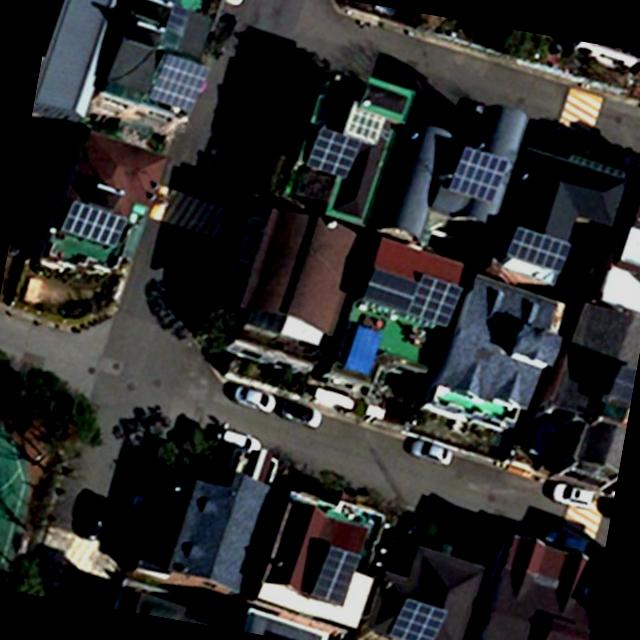solar: (441, 138, 512, 210), (302, 119, 364, 187), (146, 44, 206, 114), (57, 193, 130, 250), (504, 220, 576, 274), (406, 268, 465, 332), (310, 540, 360, 610), (382, 589, 450, 640), (358, 264, 419, 318)
